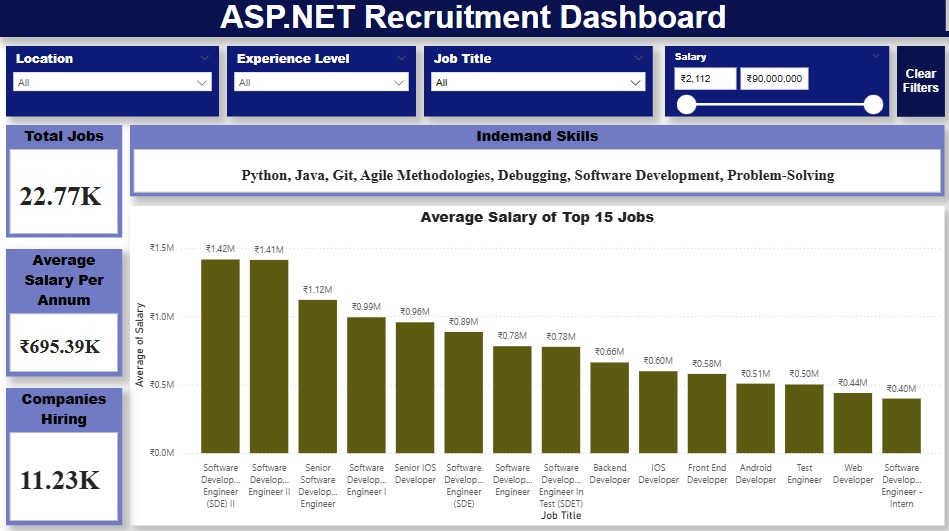

What the dashboard file says about the page in this screenshot:
{"tool":"powerbi","page":{"name":"Home","canvas":[1280,720],"ordinal":1},"visuals":[{"type":"textbox","box":[1.5,0,1278.5,56.1],"z":0},{"type":"slicer","fields":{"Values":["ASP NET.Job Title"]},"box":[570.2,68.2,304.8,94],"z":1000},{"type":"slicer","fields":{"Values":["ASP NET.Location"]},"box":[13.6,68.2,283.6,94],"z":2000},{"type":"slicer","fields":{"Values":["ASP NET.experienceLevel"]},"box":[307.9,68.2,251.8,94],"z":3000},{"type":"slicer","fields":{"Values":["ASP NET.Salary"]},"box":[891.8,68.2,298.8,94],"z":4000},{"type":"actionButton","box":[1201.1,68.2,63.7,94],"z":5000},{"type":"cardVisual","title":"Total Jobs","fields":{"Data":["CountNonNull(ASP NET.Job Roles)"]},"box":[14,173.3,154.7,150],"z":6000},{"type":"cardVisual","title":"Indemand Skills","fields":{"Data":["Min(ASP NET.skills)"]},"box":[179.1,173.3,1086,95.3],"z":7000},{"type":"cardVisual","title":"Average Salary Per Annum","fields":{"Data":["Avg(ASP NET.Salary)"]},"box":[14,338.4,154.7,169.8],"z":8000},{"type":"columnChart","title":"Average Salary of Top 15 Jobs","fields":{"Category":["ASP NET.Job Title"],"Y":["Avg(ASP NET.Salary)"]},"box":[179.1,281.4,1086,425.6],"z":9000},{"type":"cardVisual","title":"Companies Hiring","fields":{"Data":["Count(ASP NET.Company Name)"]},"box":[14,524.4,154.7,182.6],"z":10000}]}

Visuals, with their boxes in screenshot pixels (x1, y1, x2, y2), scaled from the page's 1280x720 canvas onto the 949x531 screenshot:
textbox: (1,0,948,41)
slicer - ASP NET.Job Title: (423,50,649,120)
slicer - ASP NET.Location: (10,50,220,120)
slicer - ASP NET.experienceLevel: (228,50,415,120)
slicer - ASP NET.Salary: (661,50,883,120)
actionButton: (891,50,938,120)
"Total Jobs" cardVisual: (10,128,125,238)
"Indemand Skills" cardVisual: (133,128,938,198)
"Average Salary Per Annum" cardVisual: (10,250,125,375)
"Average Salary of Top 15 Jobs" columnChart: (133,208,938,521)
"Companies Hiring" cardVisual: (10,387,125,521)
